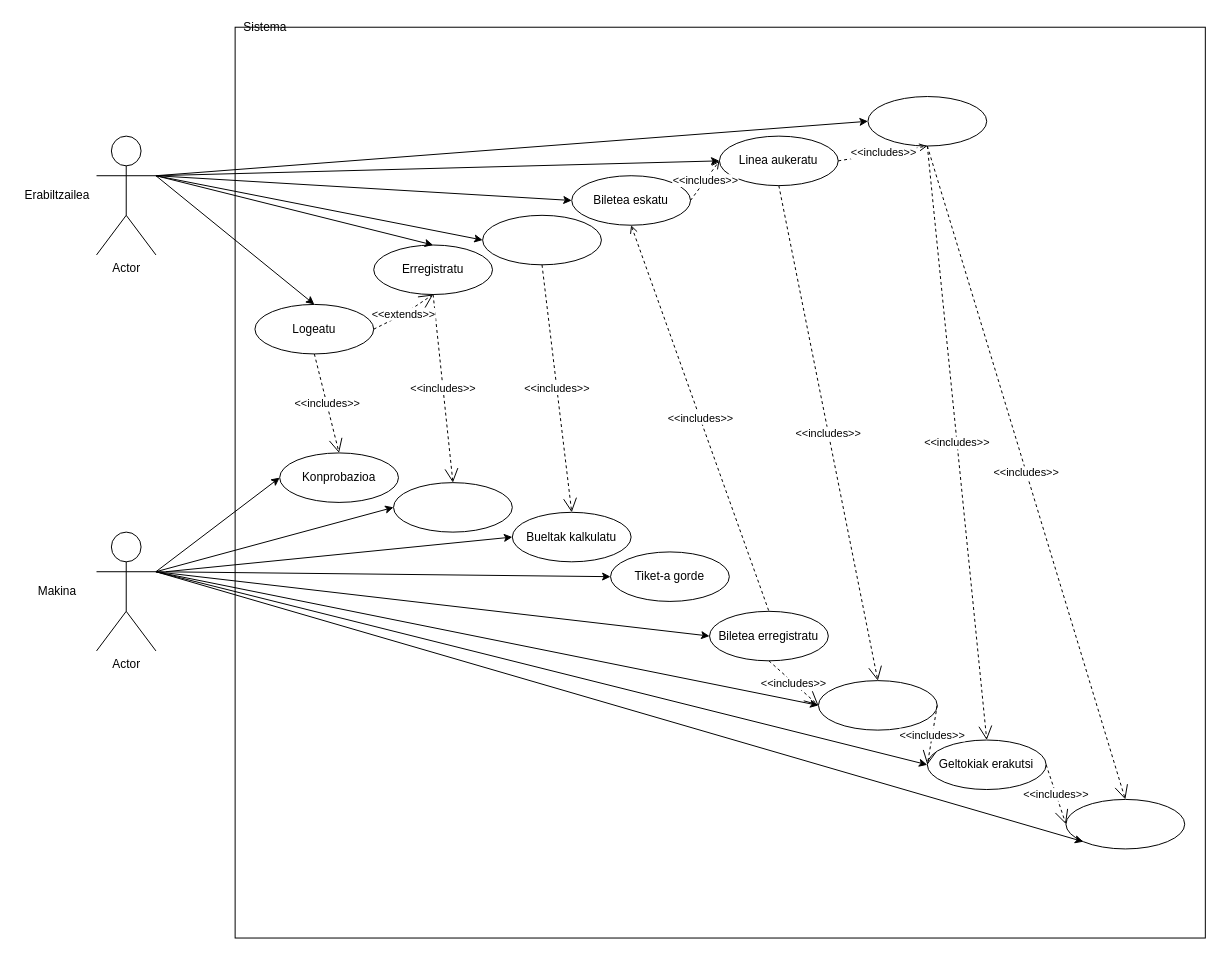
Some shapes in this 1223 by 955 pixel diagram are drawn without their labels. Each missing label, with the centre of its shape:
"Alta eman" belongs at [452,507].
"Bidaia aukeratu" belongs at [927,121].
"Lineak erakutsi" belongs at [877,705].
"Ordaindu" belongs at [541,239].
"Orduak erakutsi" belongs at [1125,823].
